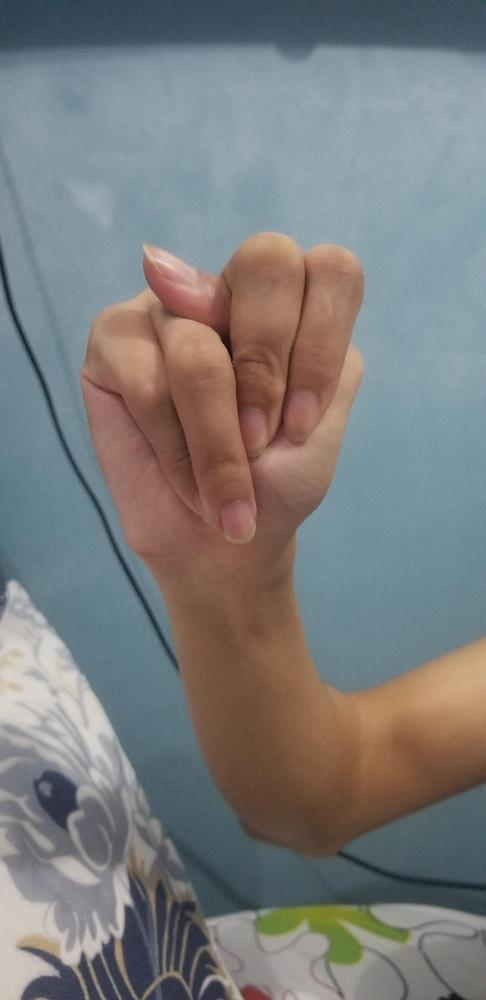n: (76, 228, 371, 566)
